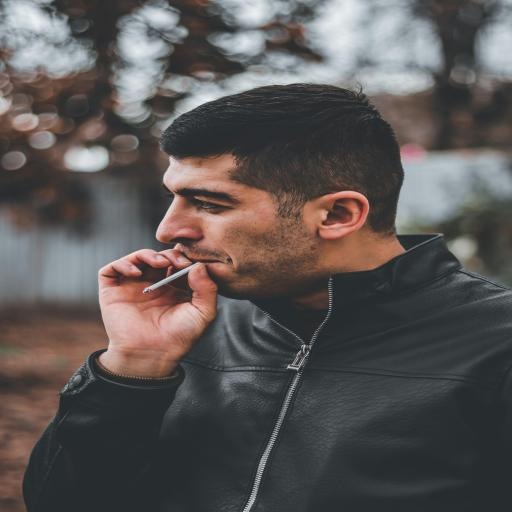terdeteksi merokok: (110, 169, 249, 321)
